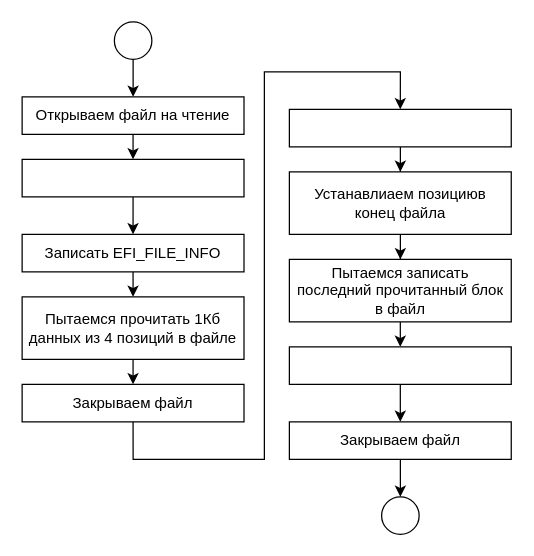
This 534x556 diagram has some shape labels left out. Each missing label, with the centre of its shape:
"Открываем файл на запись" belongs at point 399,127.
"Порочитаь EFI_FILE_INFO" belongs at point 132,177.
"Сбрасываем данные на диск" belongs at point 399,365.
